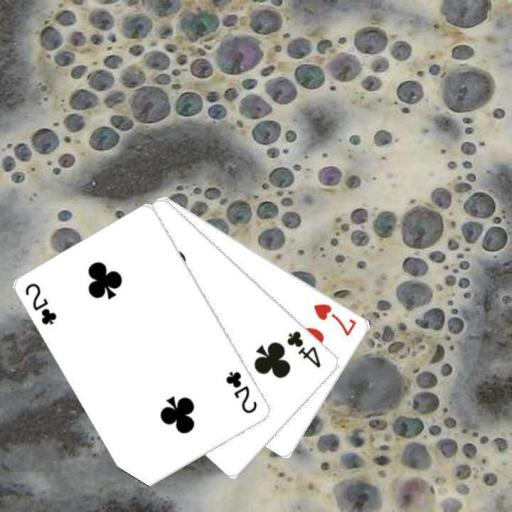card-corner: (310, 300, 358, 338), (222, 368, 260, 416), (22, 280, 59, 326), (284, 327, 323, 369)
